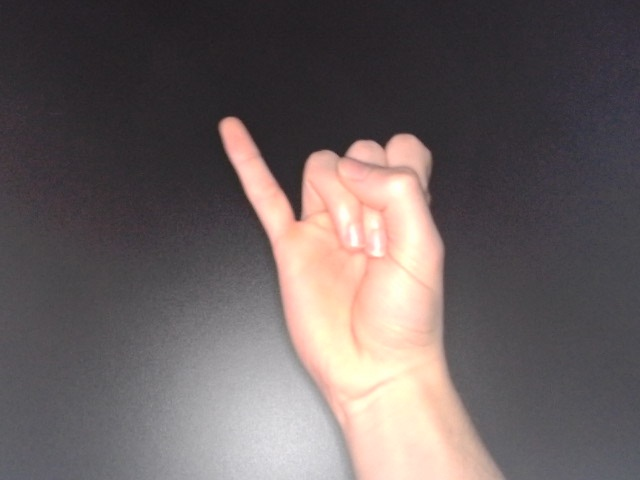j: (214, 112, 452, 408)
